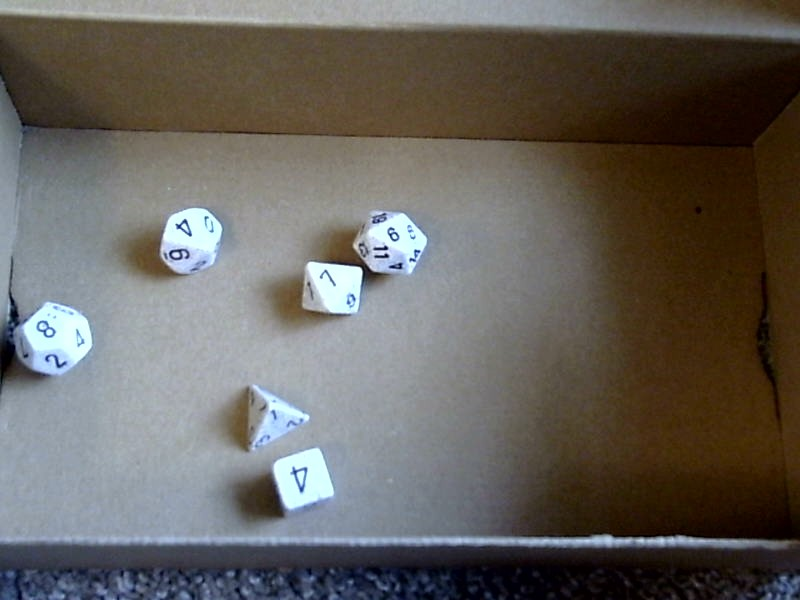d10 4: (152, 204, 226, 279)
d12 8: (9, 298, 97, 388)
d20 9: (351, 203, 429, 274)
d4 1: (237, 380, 309, 452)
d6 4: (271, 448, 341, 523)
d8 7: (294, 257, 365, 330)
